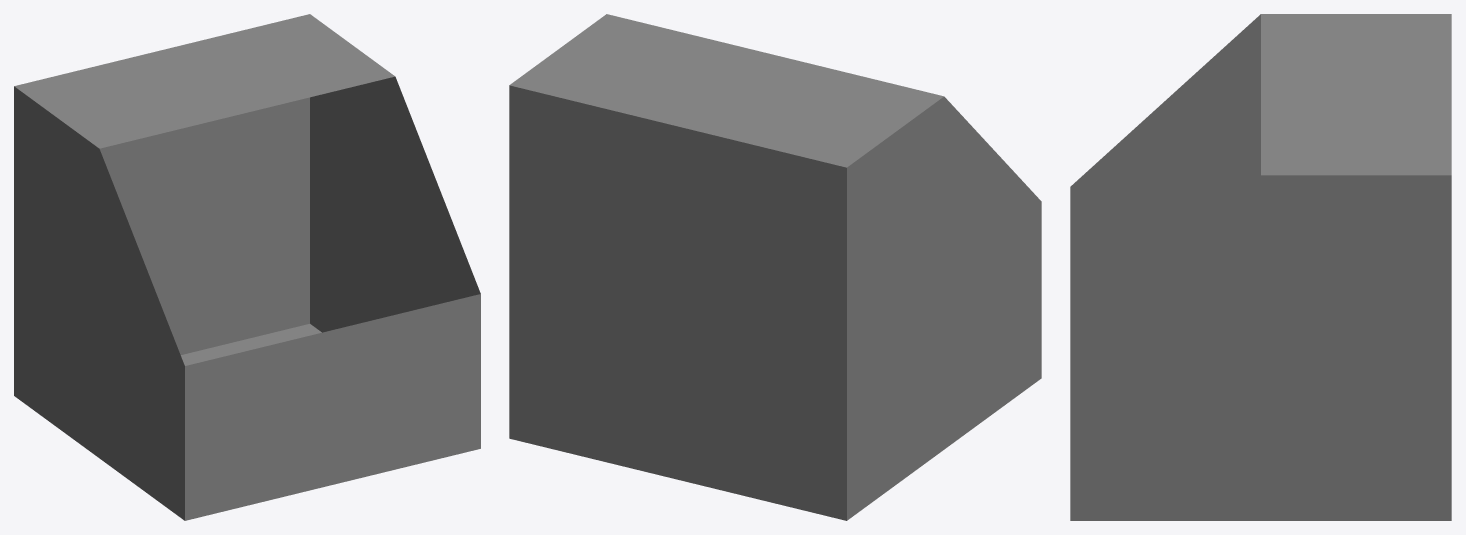
Rendered from r3c6_body_grey.gltf.
3 views of the same model, side by side, from view 1: azimuth 30°, elevation 25°; view 2: azimuth 150°, elevation 25°; view 3: azimuth 270°, elevation 25° (orthographic). The views are drawn at different scales.
Parts seen in each view (by area): view 1: r3c6_body_grey; view 2: r3c6_body_grey; view 3: r3c6_body_grey.
Boxes of the visible parts, x1,y1,x2,y2 form: r3c6_body_grey: (14, 14, 480, 520); r3c6_body_grey: (509, 14, 1041, 520); r3c6_body_grey: (1070, 14, 1451, 520).
Size of the model in its own units: 2 by 2 by 2.
1 material, 1 textured.
